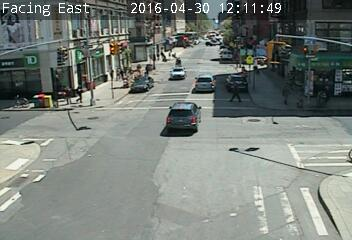neg: (243, 11, 254, 27), (177, 7, 188, 21), (212, 44, 221, 56), (238, 47, 244, 55), (175, 42, 180, 49), (190, 31, 195, 37)
